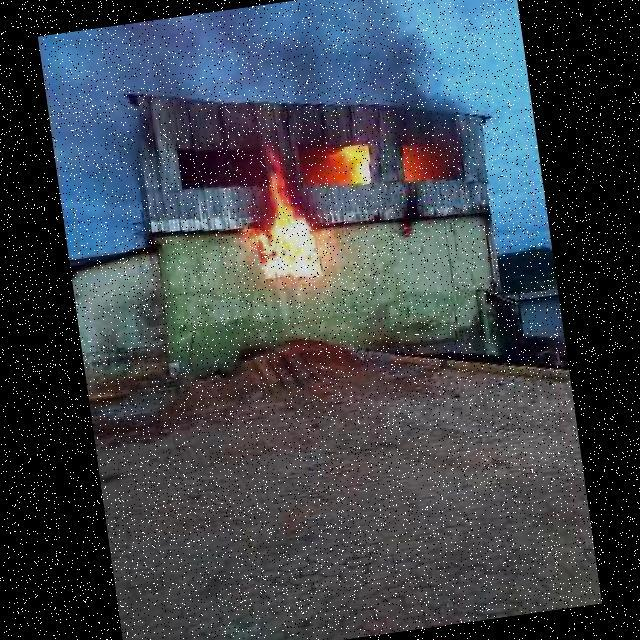Fire: (230, 140, 326, 286), (323, 144, 376, 188)
Smoke: (52, 0, 375, 181), (355, 0, 471, 158)
